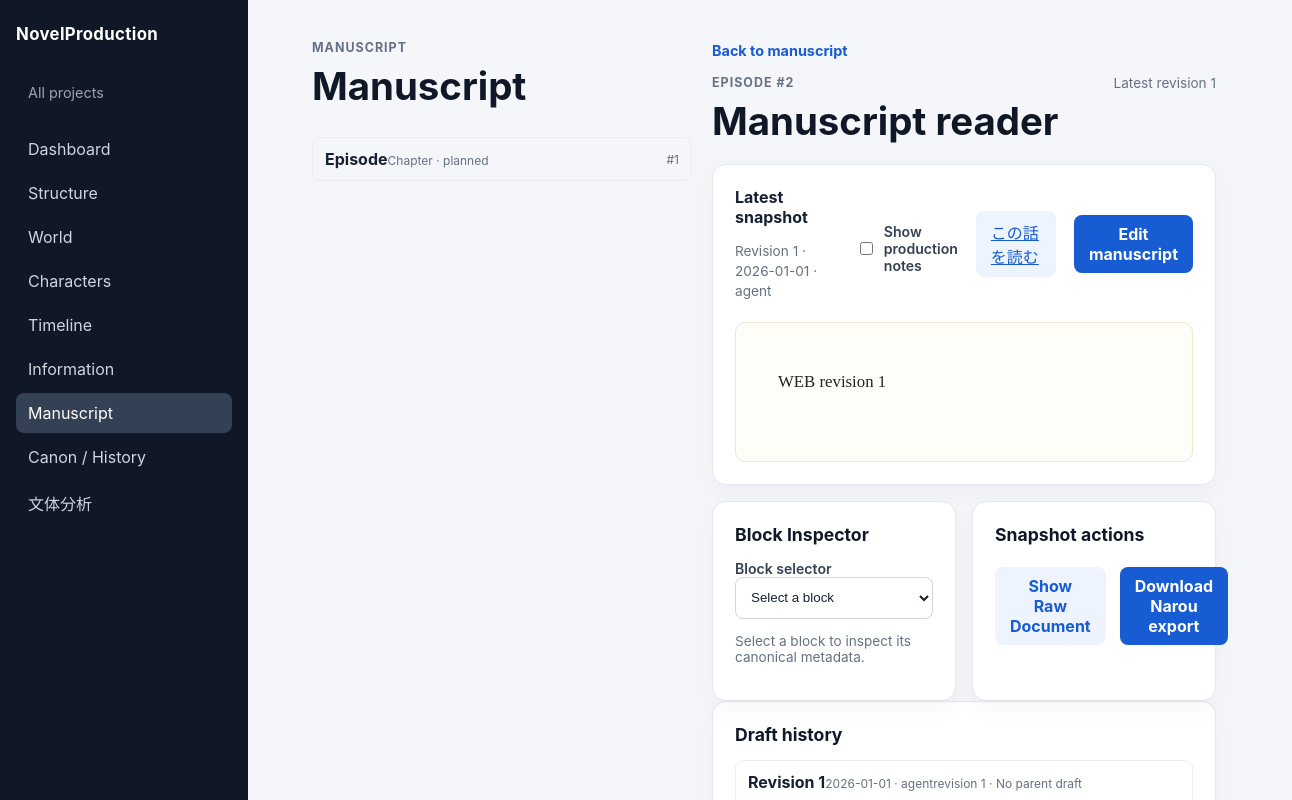
Scenario: Phase E manuscript read flows › downloads Narou export while displaying non-fatal warnings and cleaning up its object URL
The width and height of the screenshot is (1292, 800).
expect the text "Latest revision 1" is shown: met, box [1114,75,1216,91]
Click the button "Download Narou export": (1174, 606) [1120,567,1228,645]
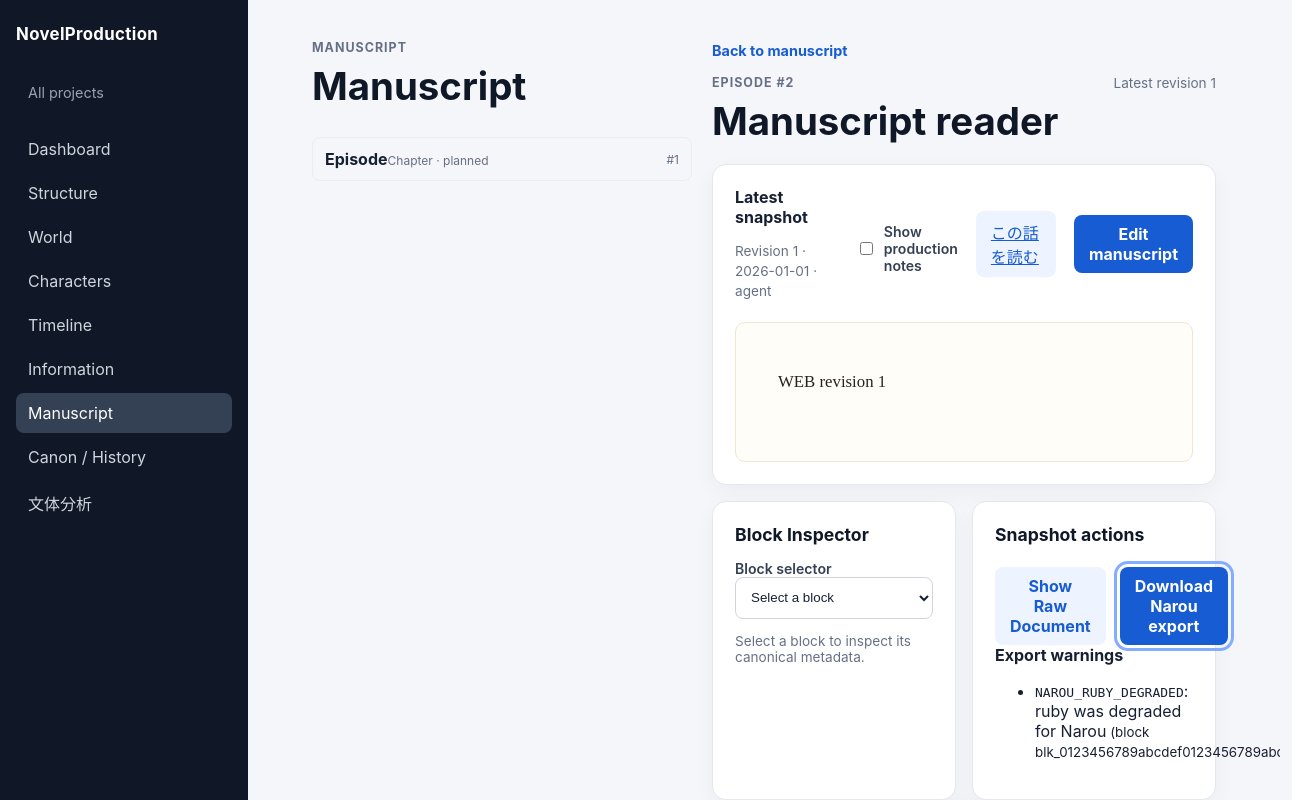
expect the list item shows "ruby was degraded for Narou": met, box [1035,701,1181,741]
expect the text "NAROU_RUBY_DEGRADED" is shown: met, box [1035,685,1184,700]
